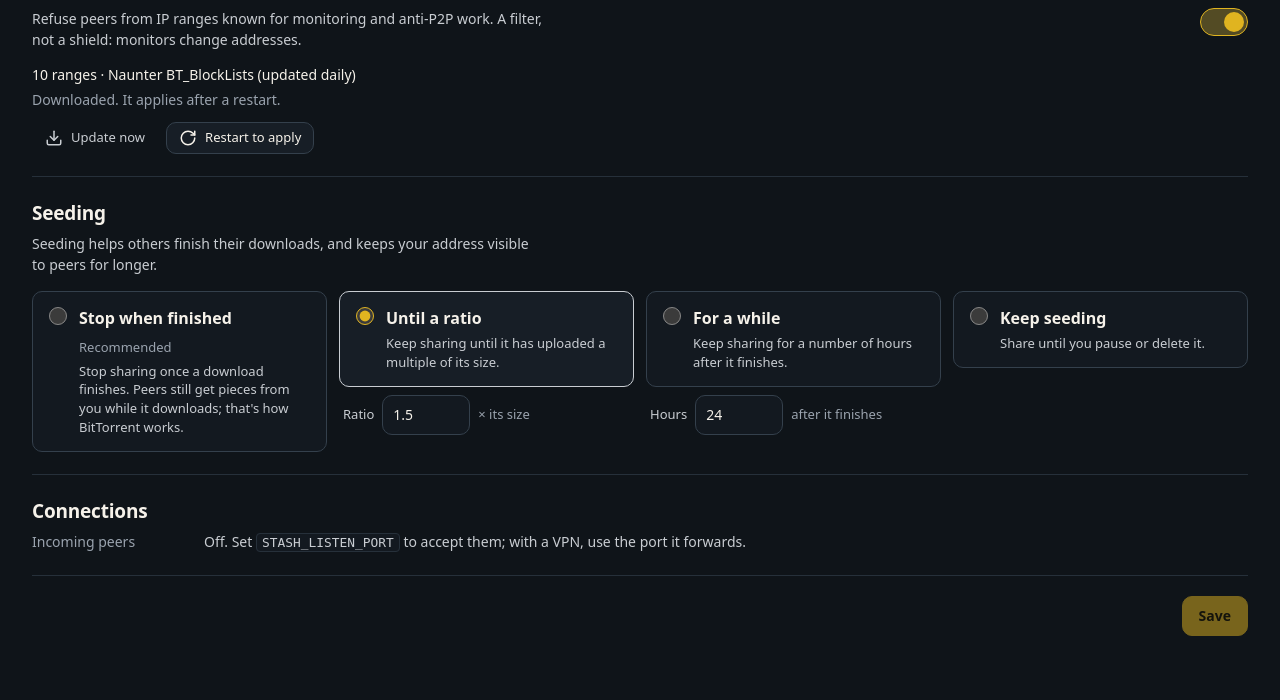
Test: Privacy page › ratio 1.50 invalid=false
(page scrolled)
Replace the text in the field labelled "Ratio" with "1.50" at (426, 415), box [382,395,470,435]
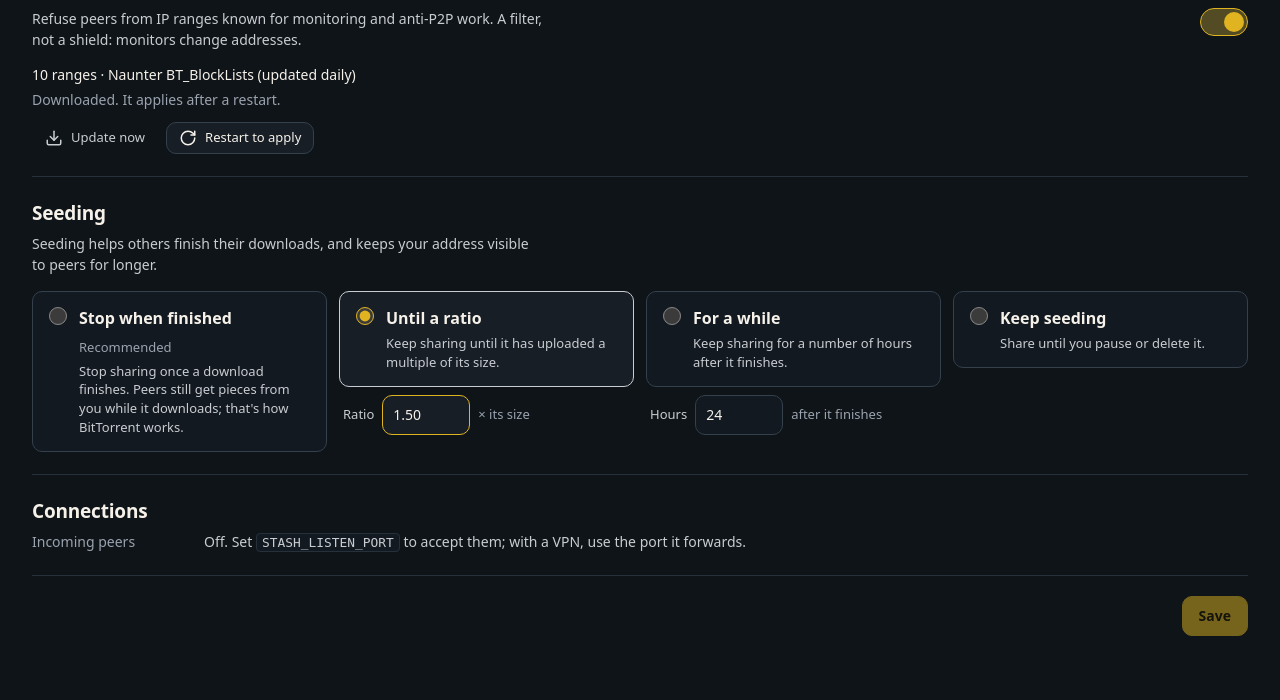
Expected: the field labelled "Ratio" does not have attribute aria-invalid, [382,395,470,435]
